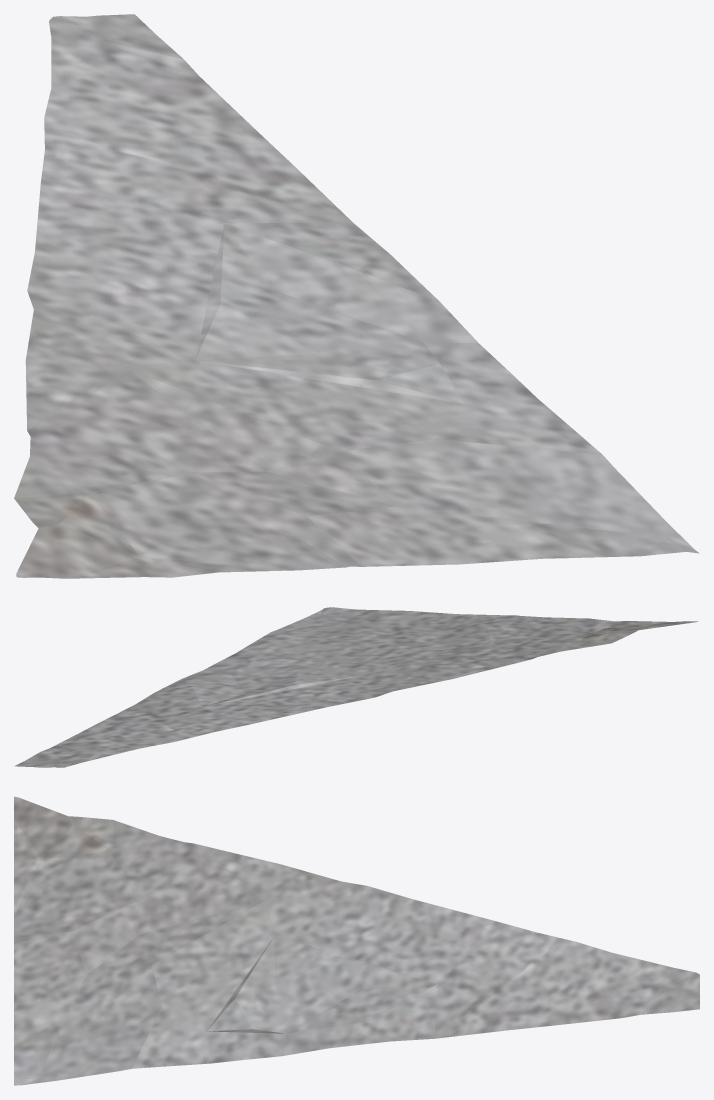
The picture shows the model from 3 angles, top to bottom: view 1: azimuth 30°, elevation 25°; view 2: azimuth 150°, elevation 25°; view 3: azimuth 270°, elevation 25°; orthographic projection. The views are drawn at different scales.
Size of the model in its own units: 1.17 by 0.2335 by 1.67.
1 material, 1 textured.
